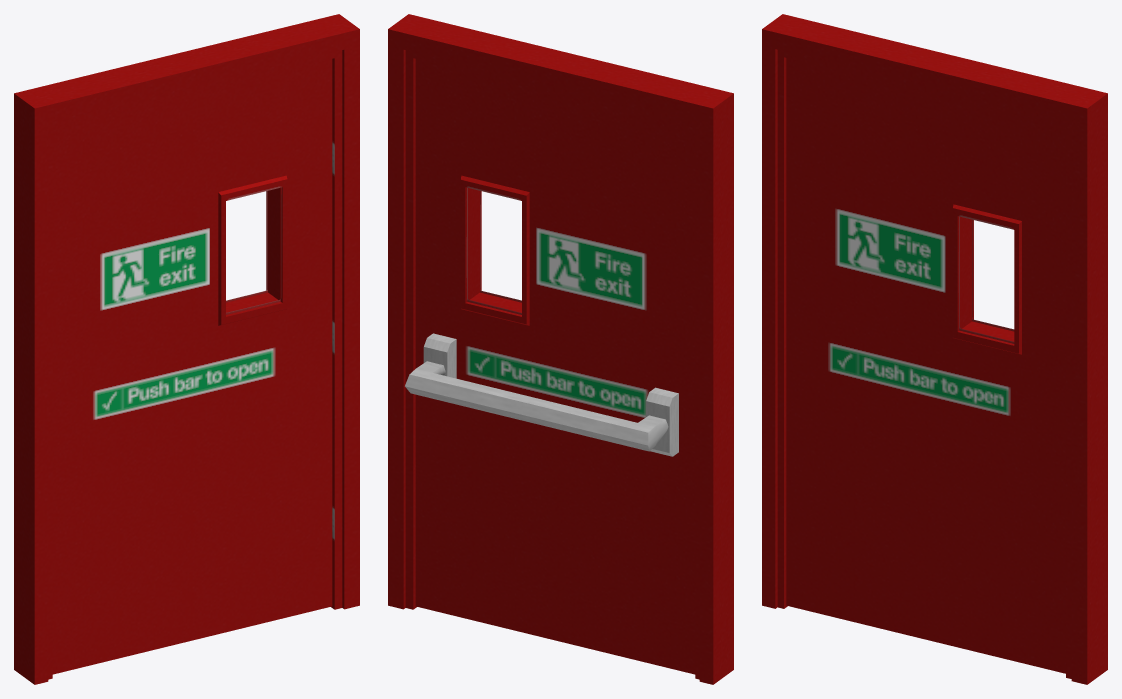
The model's file is EmergencyExitReverse.fbx.
3 renders of one model, left to right at view 1: azimuth 30°, elevation 25°; view 2: azimuth 150°, elevation 25°; view 3: azimuth 330°, elevation 25°, orthographic.
Parts seen in each view (by area): view 1: FireDoor, FireDoorFrame; view 2: FireDoor, FireDoorFrame, FireDoorHandle, FireDoorhinge1, FireDoorHinge; view 3: FireDoor, FireDoorFrame.
Boxes of the visible parts, x1,y1,x2,y2 form: FireDoor: [52, 59, 332, 674]; FireDoorFrame: [14, 14, 359, 684]; FireDoor: [415, 59, 695, 674]; FireDoorFrame: [388, 14, 733, 684]; FireDoorHandle: [405, 361, 668, 451]; FireDoorhinge1: [646, 387, 678, 456]; FireDoorHinge: [423, 333, 456, 378]; FireDoor: [786, 58, 1065, 673]; FireDoorFrame: [762, 14, 1107, 684].
Bounding box in the file's own units: 1.23 × 2.09 × 0.3034.
